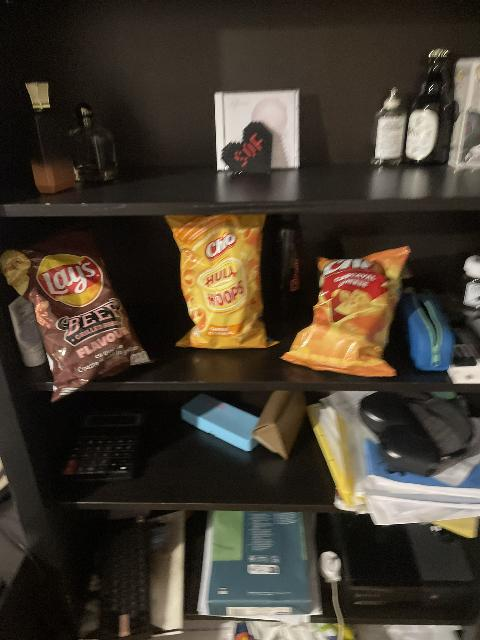Chio Cascaval 125g: (278, 244, 399, 375)
Chio Hula Hoops Cheese 70g: (164, 216, 277, 350)
Lays Beef Grilled Ribs 125g: (1, 231, 158, 400)
